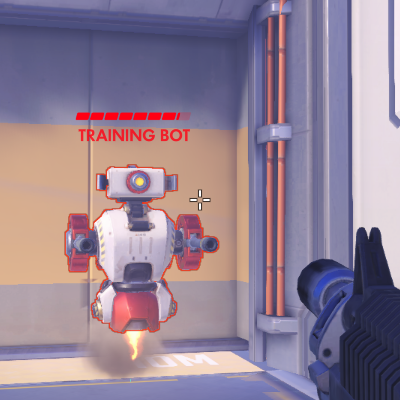hpbar: (75, 112, 192, 121)
